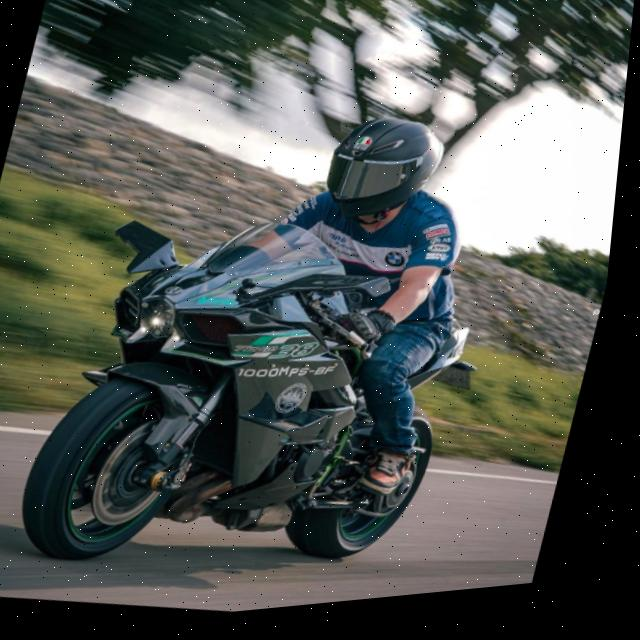helmet: (312, 108, 462, 251)
